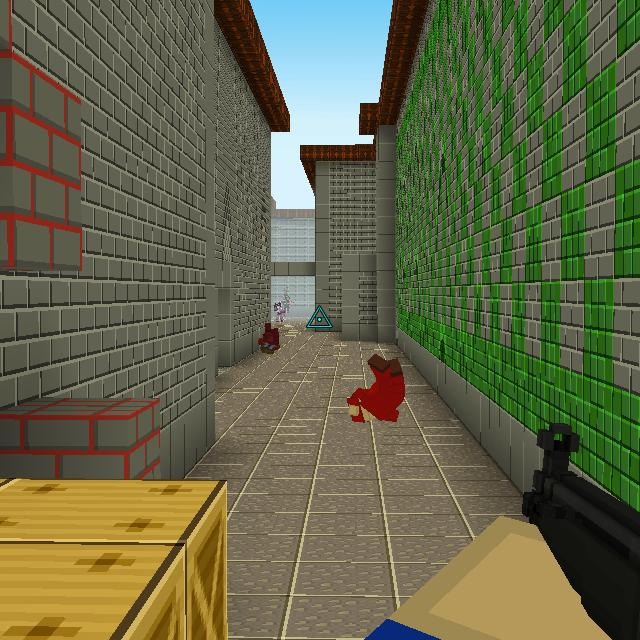enemy: (282, 287, 291, 314), (274, 301, 285, 322)
